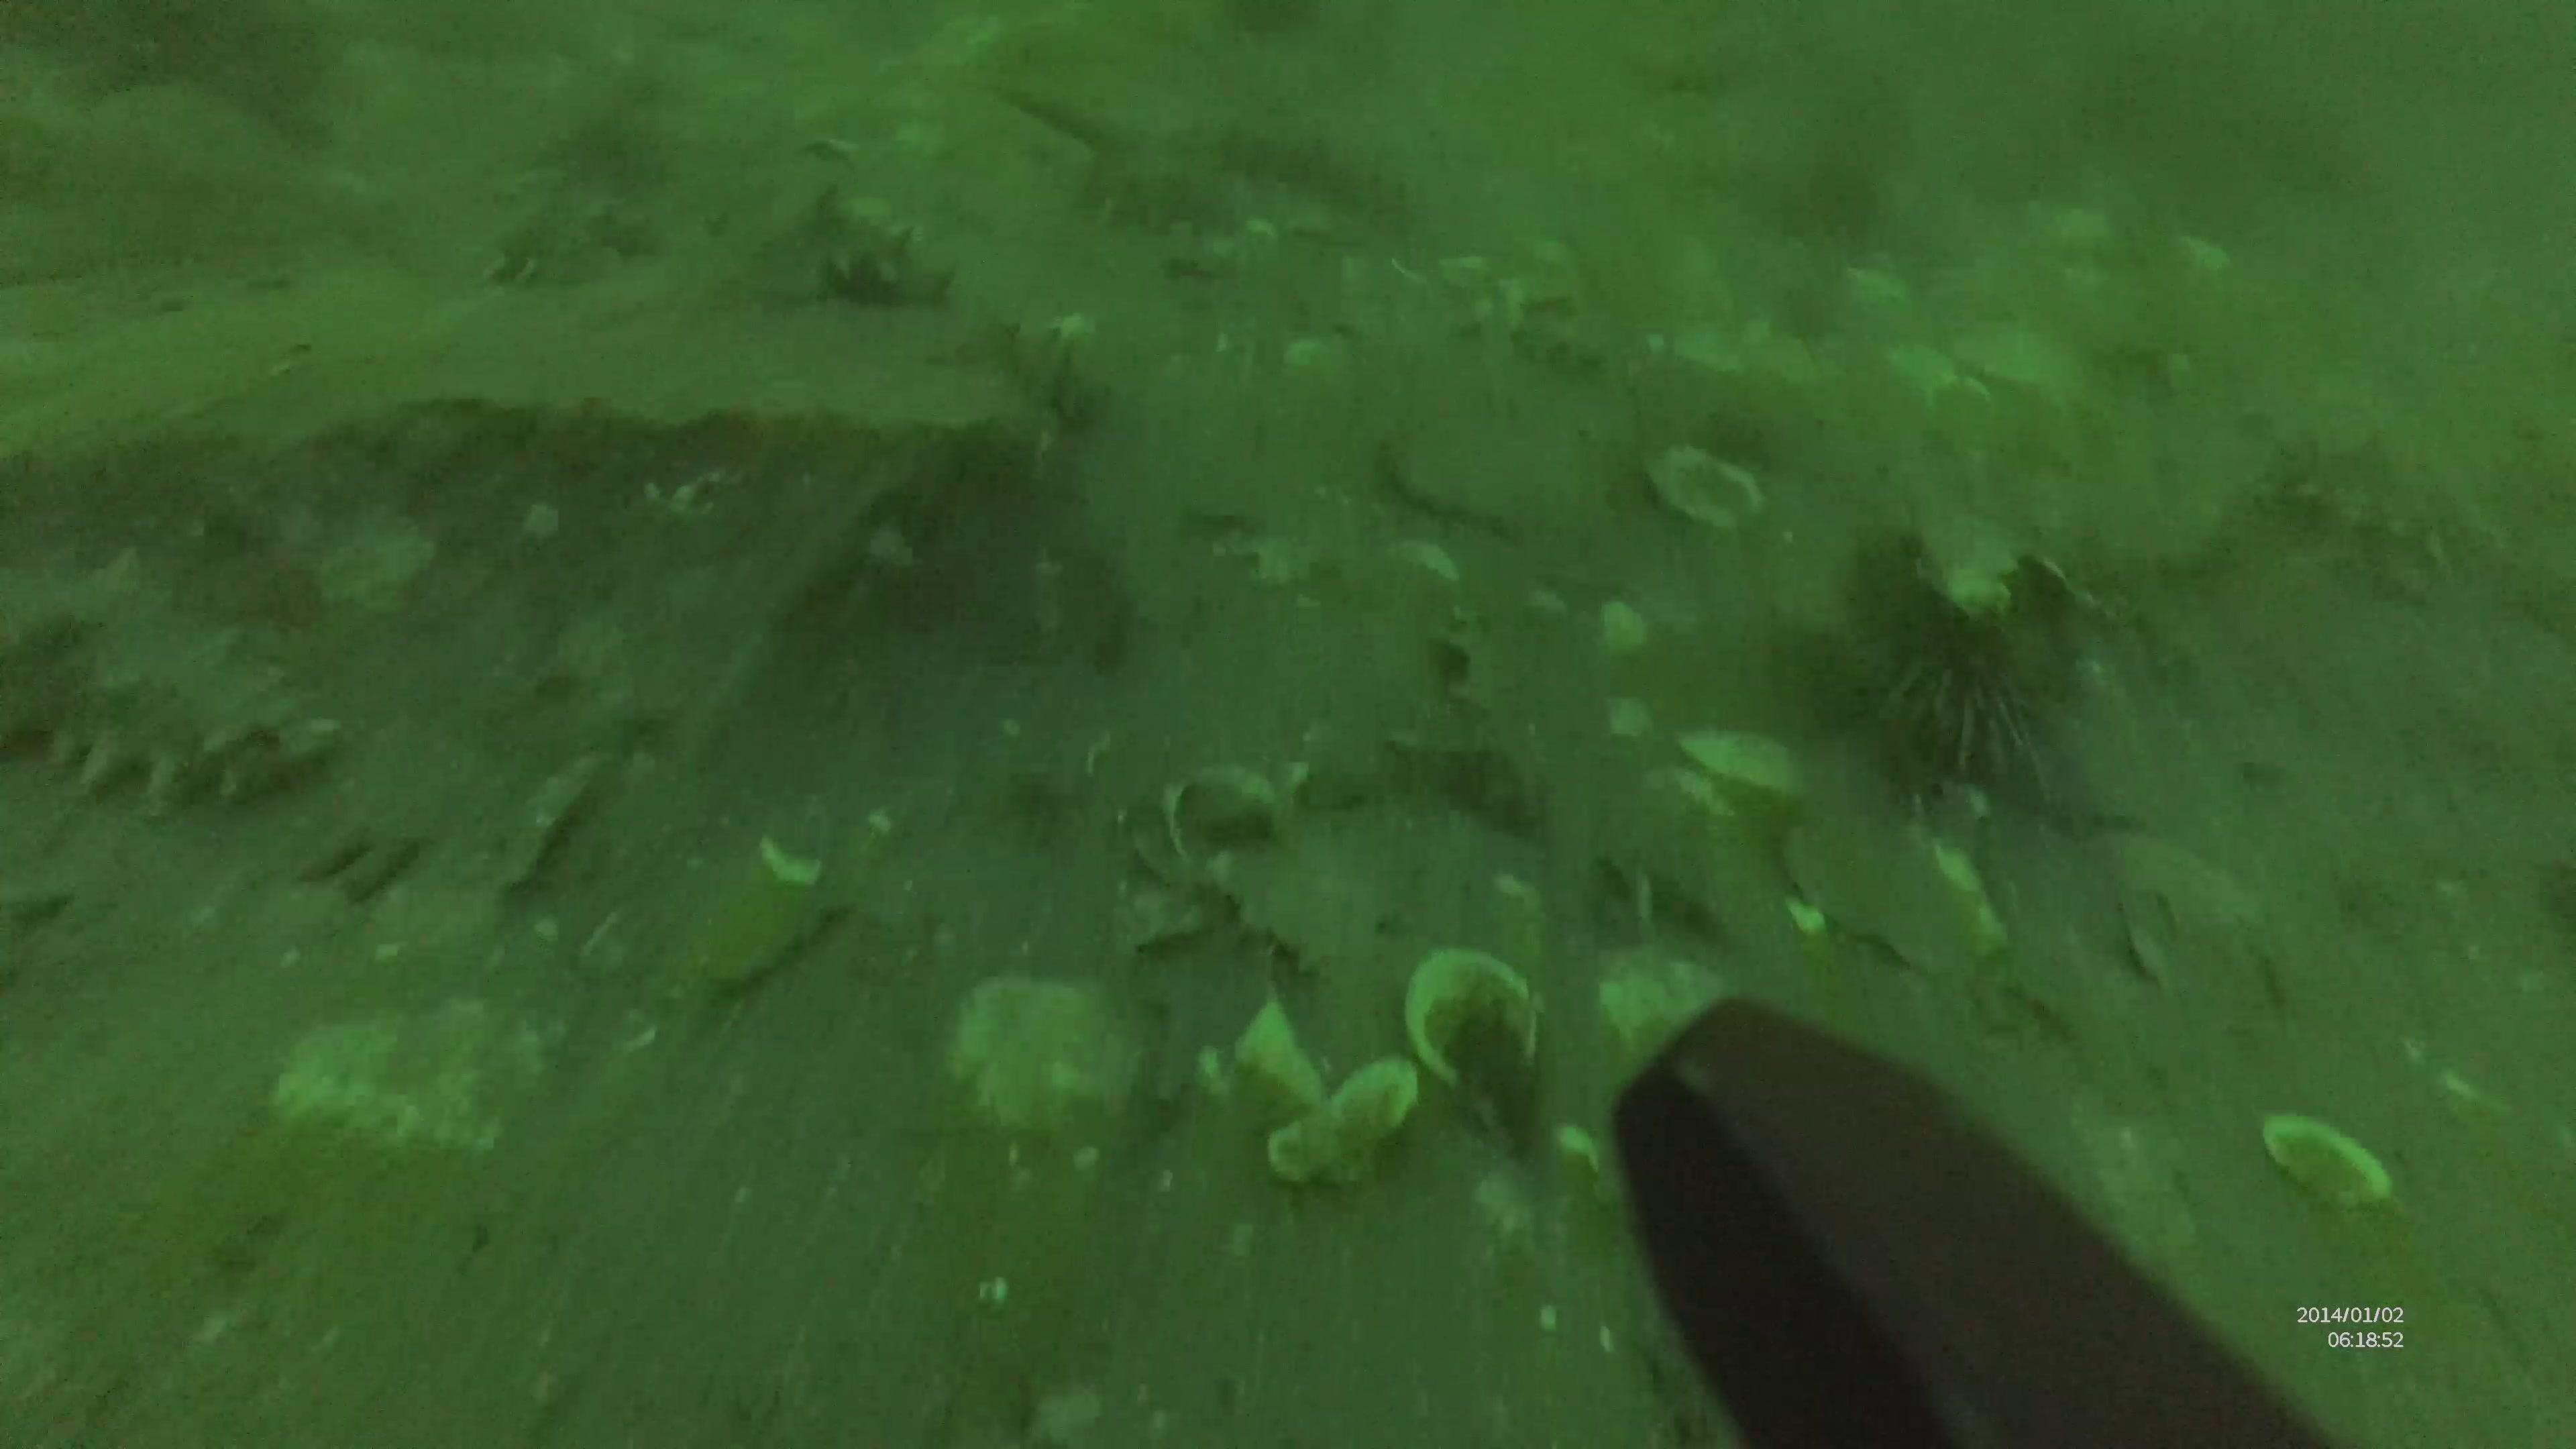echinus: (1856, 589, 2075, 816)
holothurian: (0, 531, 331, 809)
